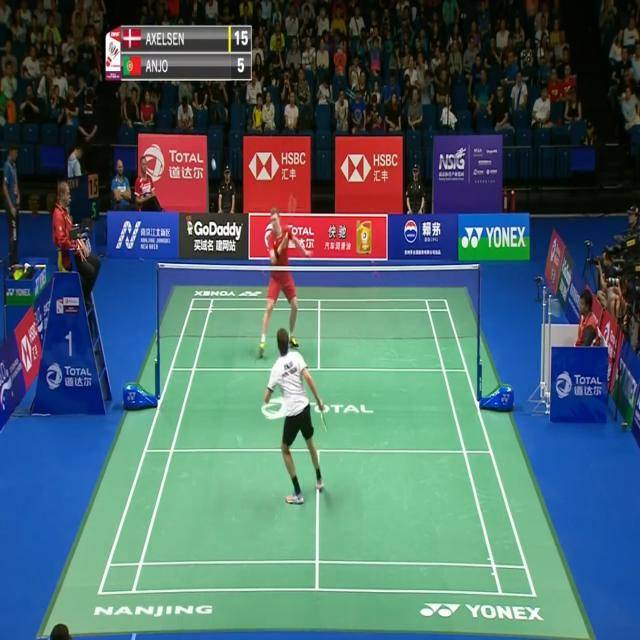Player1: (263, 327, 331, 509)
Player2: (258, 205, 314, 358)
